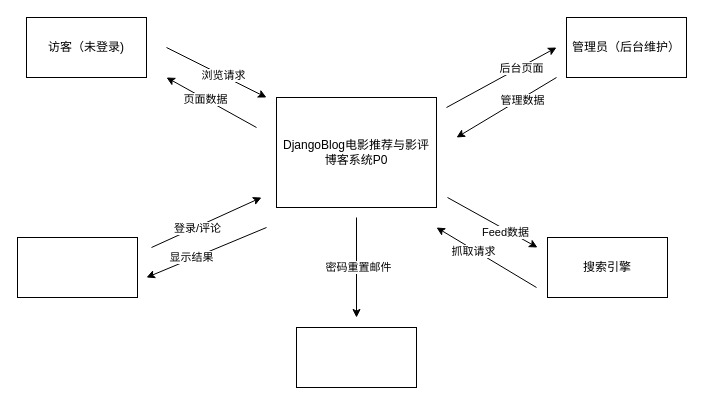
Image size: 704x405. Some labels were removed from this diagram. Here are the shapes that lost their labels. From the top down, the box of each, then its label:
(16, 236, 138, 298): 注册用户（已登录）
(296, 326, 416, 388): 邮件系统
